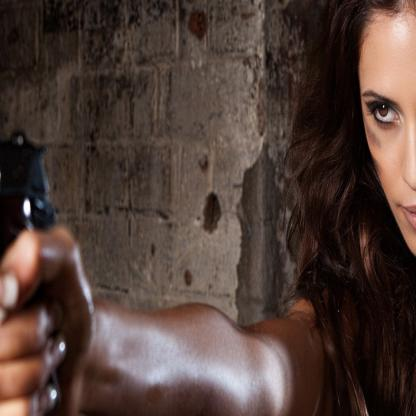gun: (0, 112, 68, 388)
